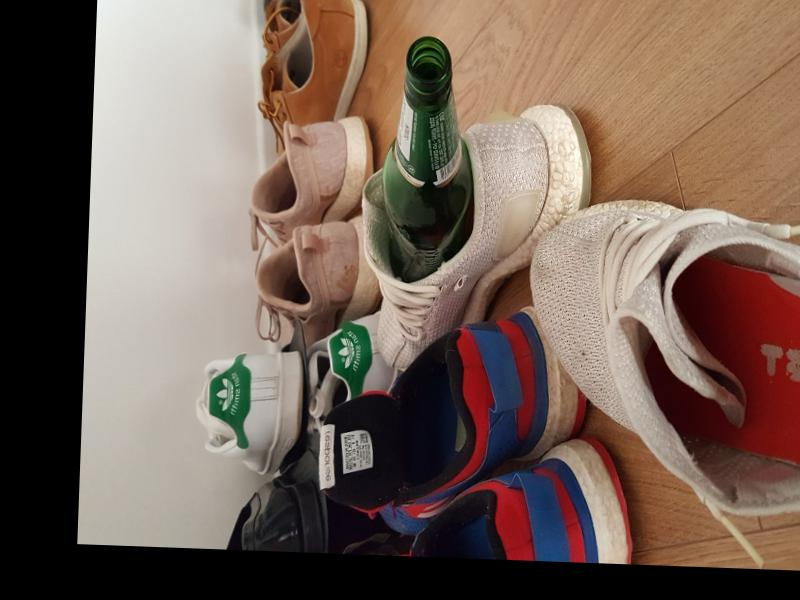Beer: (381, 35, 479, 284)
